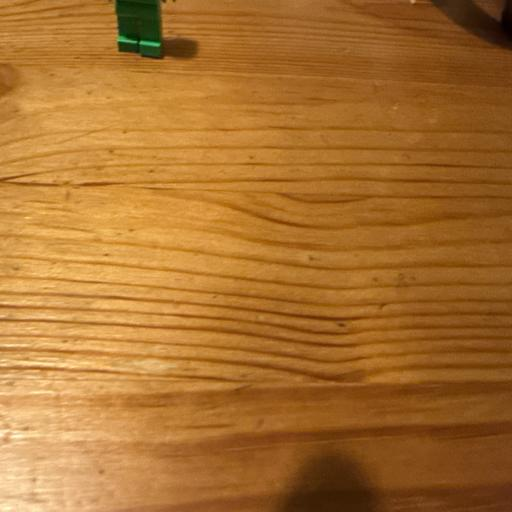Minifig: (116, 0, 162, 57)
